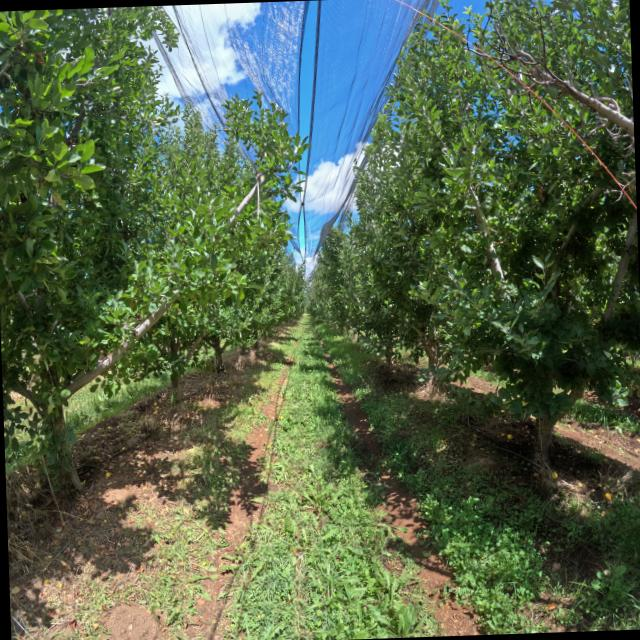-FireBlight-: (534, 182, 545, 209)
